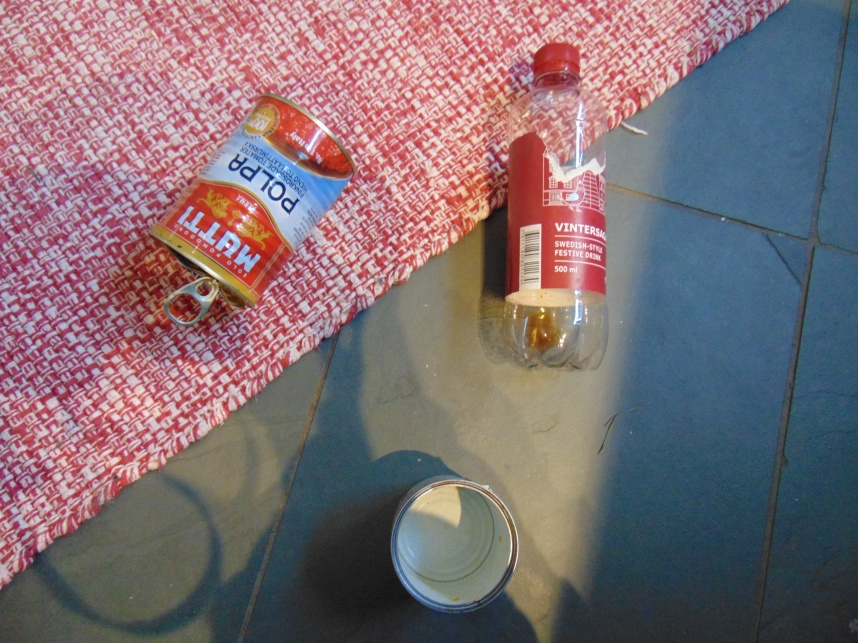metal_can: (148, 91, 356, 312), (389, 473, 515, 611)
plastic_bottle: (499, 42, 612, 373)
